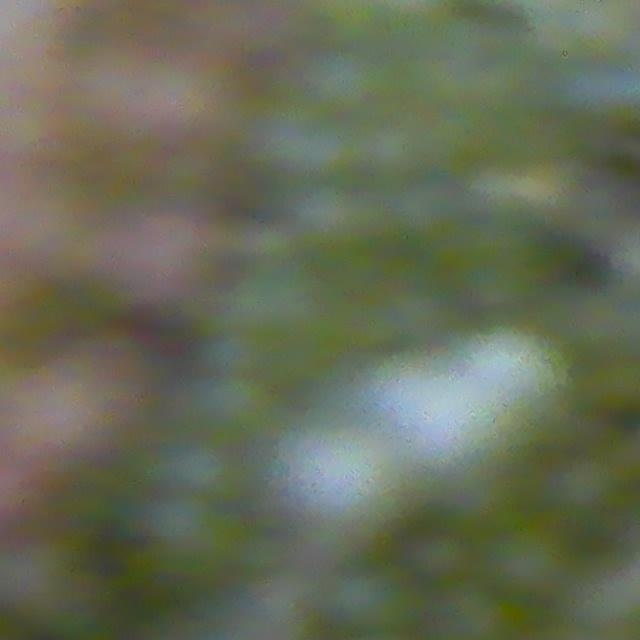SeaGrape: (326, 563, 421, 640), (487, 521, 571, 602), (294, 183, 365, 254), (307, 46, 378, 115)
